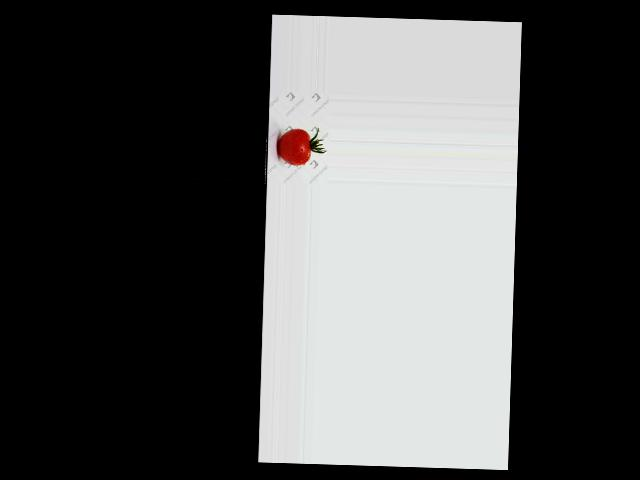tomato: (277, 127, 311, 164)
